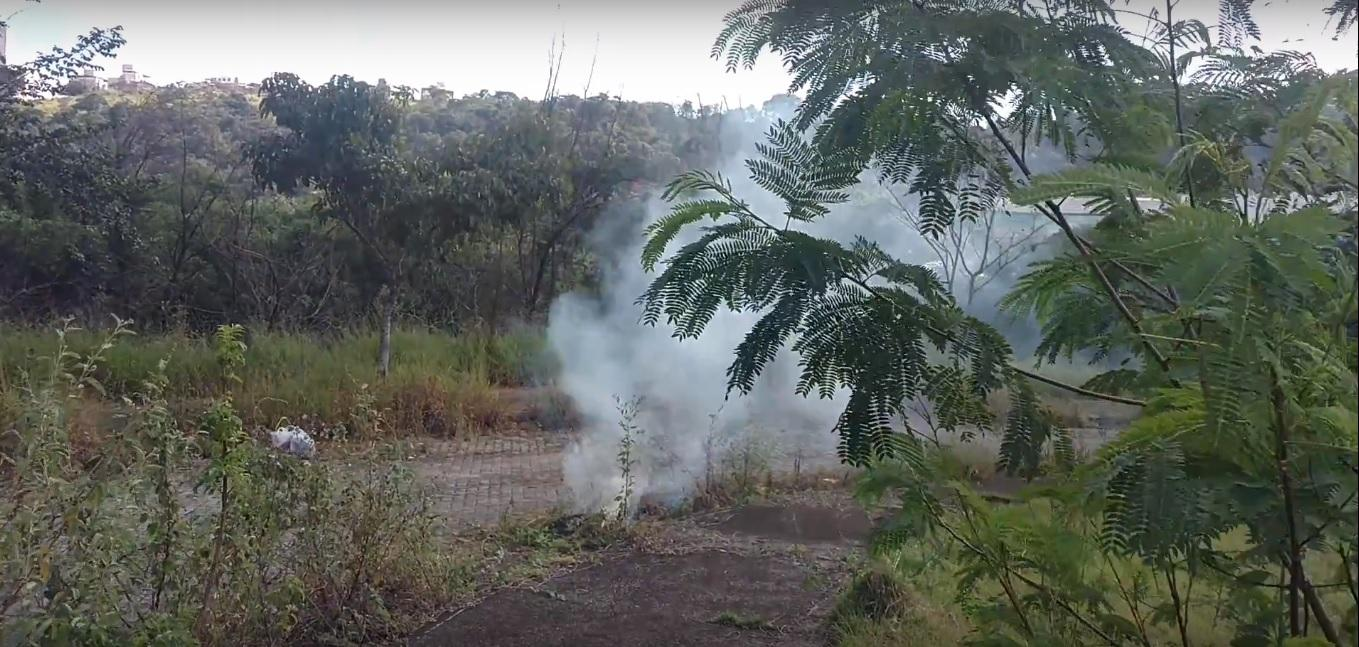smoke: (573, 310, 717, 455)
